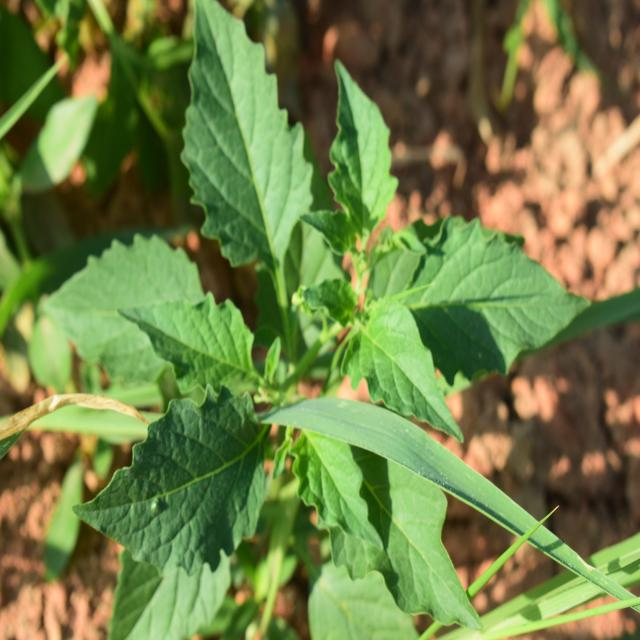Black_nightshade: (103, 42, 493, 585)
